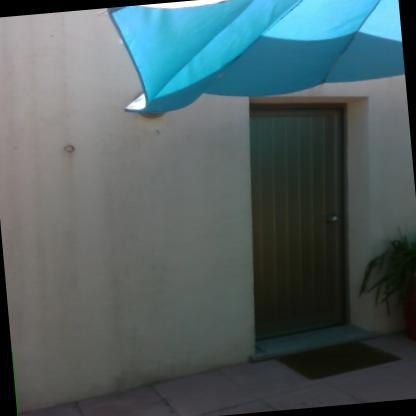closed: (232, 80, 396, 362)
